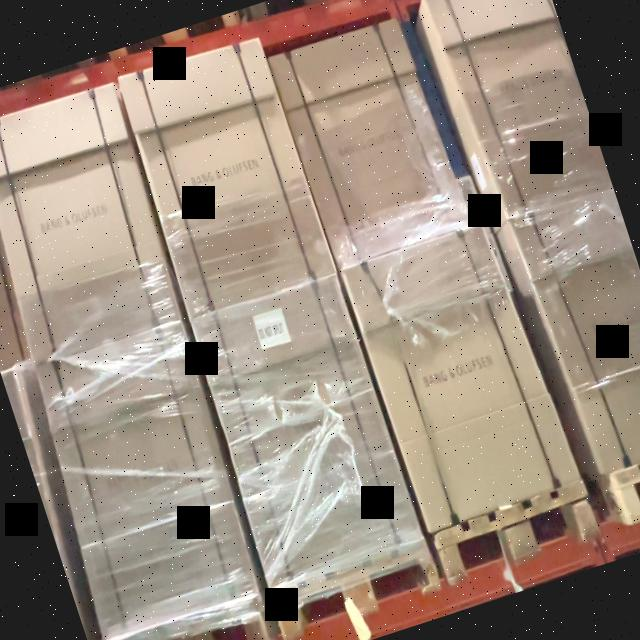box: (345, 221, 583, 533), (189, 272, 422, 587), (37, 319, 259, 640), (120, 36, 337, 317), (0, 83, 183, 369), (268, 21, 474, 268)
